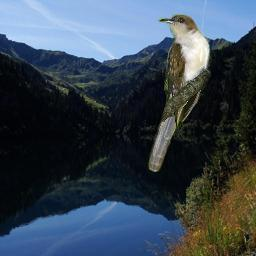Cuckoo: (148, 14, 211, 172)
